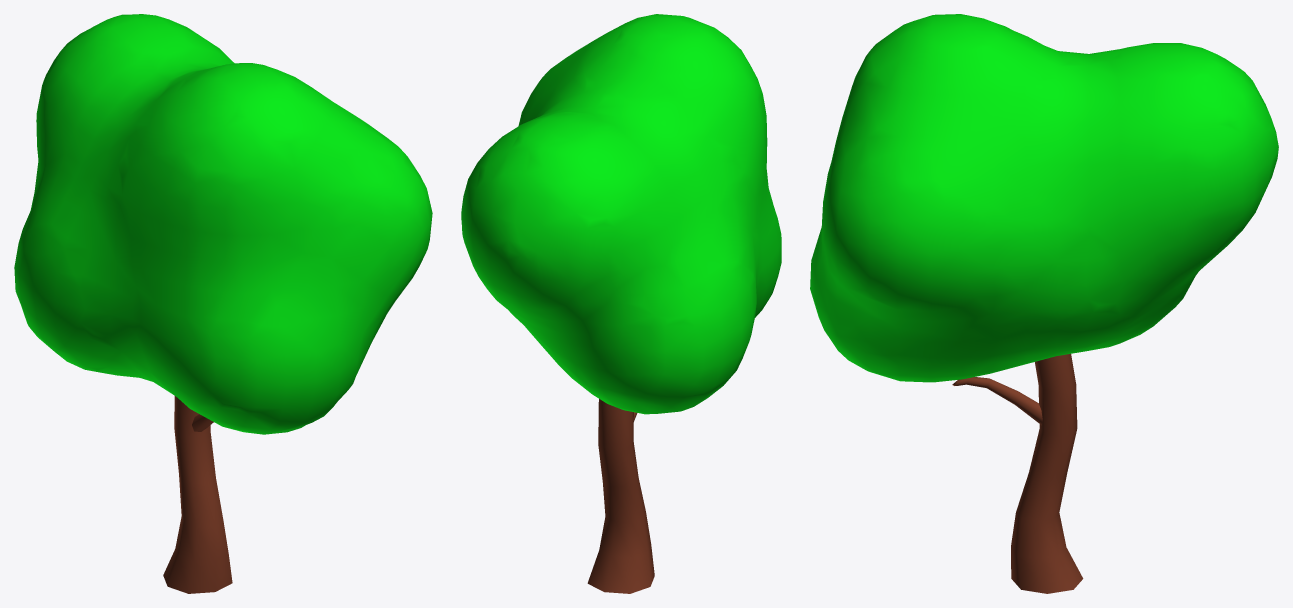
The model's file is Tree_003.fbx.
3 views of the same model, side by side, from view 1: azimuth 30°, elevation 25°; view 2: azimuth 150°, elevation 25°; view 3: azimuth 270°, elevation 25° (orthographic). The views are drawn at different scales.
Parts seen in each view (by area): view 1: Baum3; view 2: Baum3; view 3: Baum3.
Part boxes in pixels (left/top/right/bottom): Baum3: left=14, top=14, right=432, bottom=593; Baum3: left=461, top=14, right=781, bottom=593; Baum3: left=810, top=14, right=1278, bottom=593.
Size of the model in its own units: 286 by 486 by 372.
